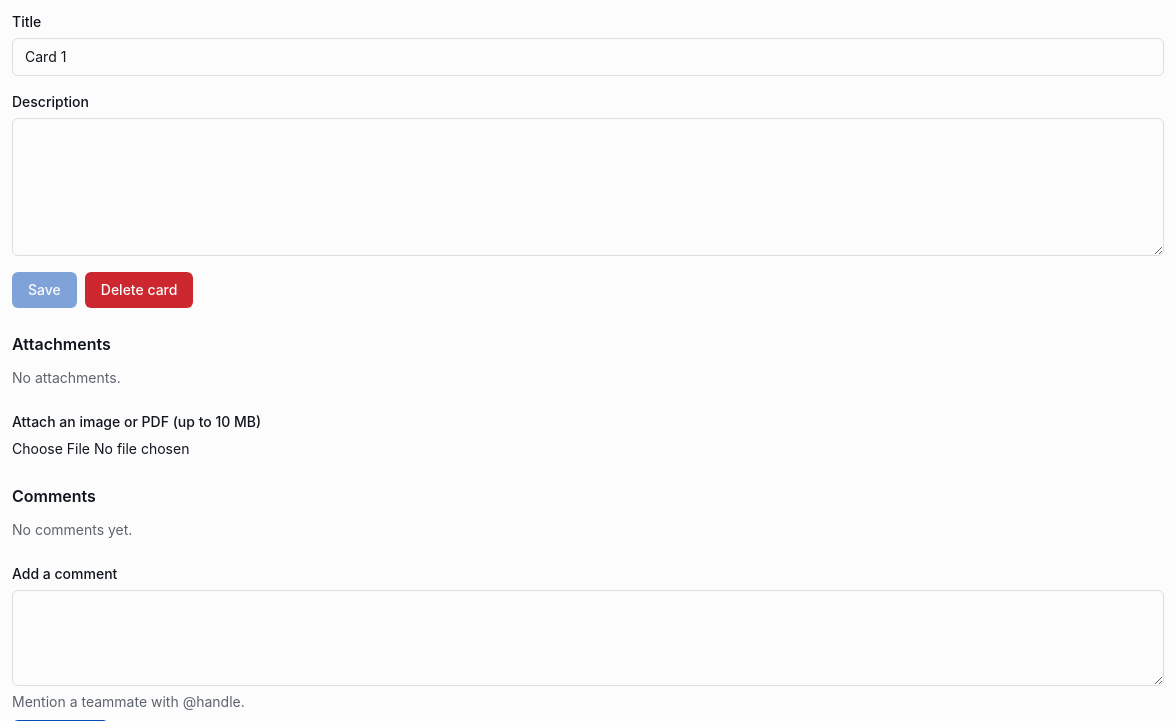
editing a card that someone else changed › keeps the typed text when saving fails for another reason, and says why
This screenshot has width=1176, height=721.
In the text box labelled "Description": (588, 187) [12,118,1164,256], type "important text"
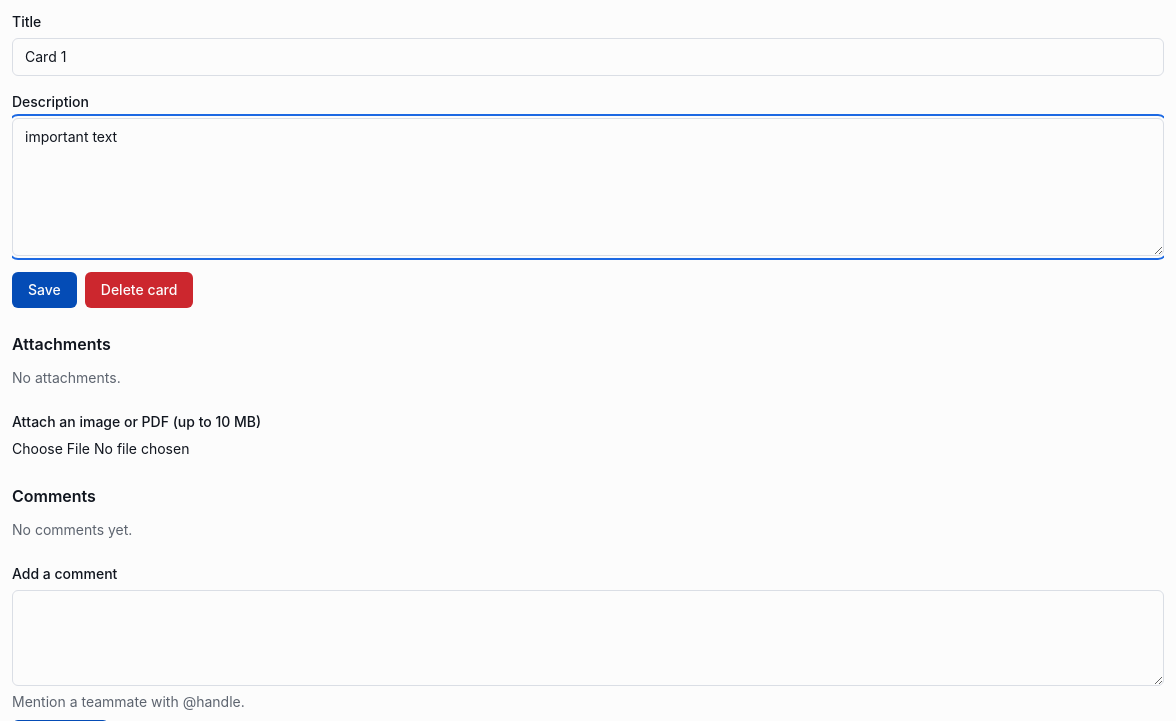
Click the button "Save": click(44, 290) [12,272,77,308]
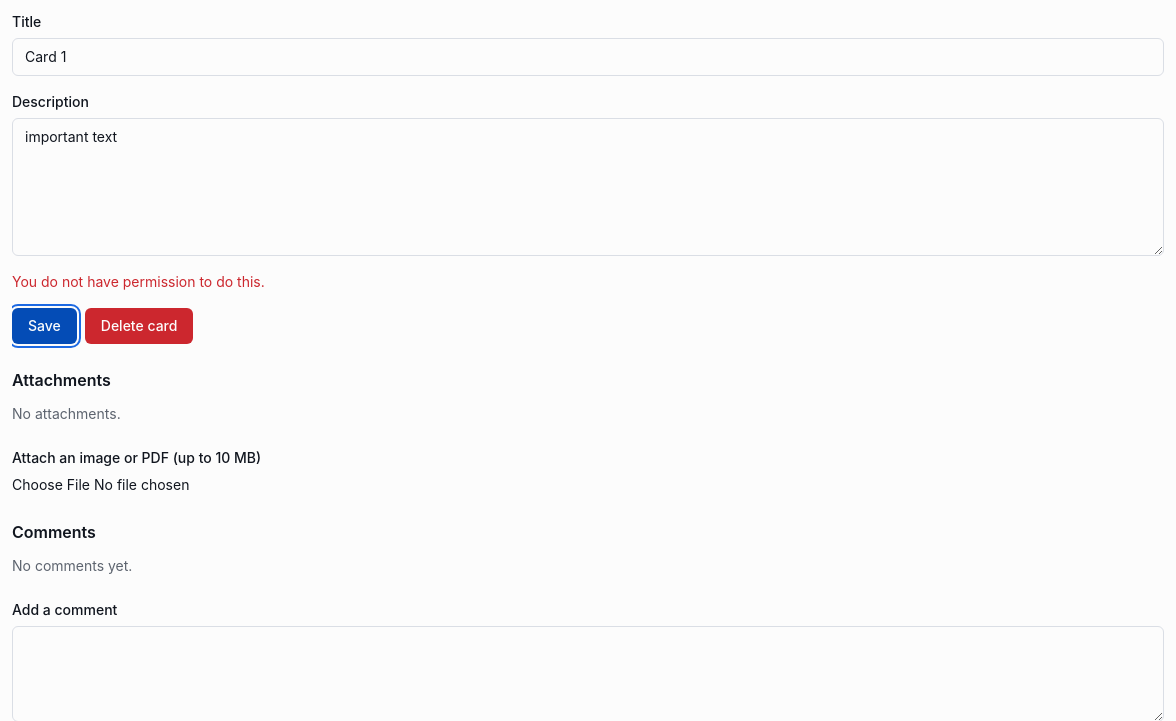
Expected: the text "You do not have permission to do this." is shown, [12,273,265,290]
